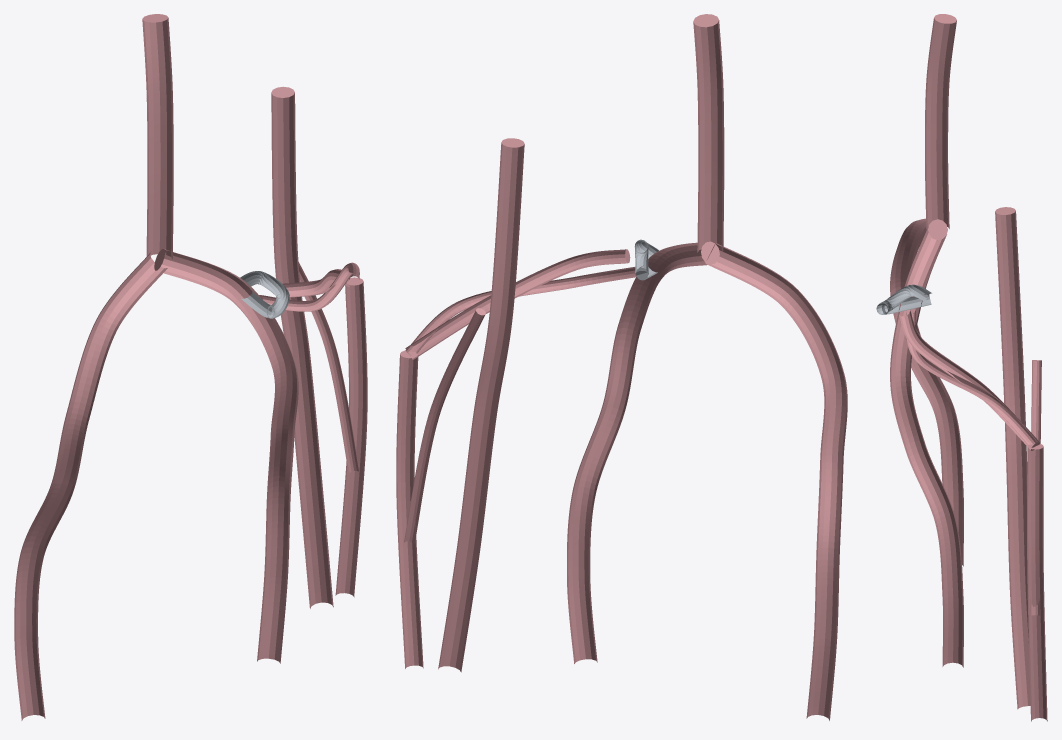
Rendered from craniocervical_pa2.glb.
3 renders of one model, left to right at view 1: azimuth 30°, elevation 25°; view 2: azimuth 150°, elevation 25°; view 3: azimuth 270°, elevation 25°, orthographic. The views are drawn at different scales.
Visible parts, largest first — view 1: Vertebral esquerda (V1–V4 esquemático), ACI cervical — referência, Vertebral direita (V1–V4 esquemático), Basilar, Carótida externa — referência, Faríngea ascendente, Forame transversário C1 — guia, Artéria occipital, Proatlântica tipo II persistente; view 2: ACI cervical — referência, Vertebral esquerda (V1–V4 esquemático), Vertebral direita (V1–V4 esquemático), Basilar, Carótida externa — referência, Proatlântica tipo II persistente, Faríngea ascendente, Artéria occipital; view 3: ACI cervical — referência, Vertebral direita (V1–V4 esquemático), Vertebral esquerda (V1–V4 esquemático), Basilar, Carótida externa — referência, Proatlântica tipo II persistente, Artéria occipital, Forame transversário C1 — guia, Faríngea ascendente.
Part boxes in pixels (x1=…): Vertebral esquerda (V1–V4 esquemático): x1=14, y1=252, x2=167, y2=720; ACI cervical — referência: x1=271, y1=86, x2=333, y2=608; Vertebral direita (V1–V4 esquemático): x1=154, y1=249, x2=298, y2=663; Basilar: x1=142, y1=14, x2=173, y2=259; Carótida externa — referência: x1=335, y1=277, x2=367, y2=597; Faríngea ascendente: x1=298, y1=261, x2=359, y2=473; Forame transversário C1 — guia: x1=240, y1=271, x2=289, y2=318; Artéria occipital: x1=259, y1=262, x2=359, y2=311; Proatlântica tipo II persistente: x1=282, y1=269, x2=354, y2=297; ACI cervical — referência: x1=438, y1=138, x2=524, y2=672; Vertebral esquerda (V1–V4 esquemático): x1=705, y1=243, x2=847, y2=720; Vertebral direita (V1–V4 esquemático): x1=567, y1=241, x2=719, y2=663; Basilar: x1=693, y1=14, x2=724, y2=252; Carótida externa — referência: x1=396, y1=350, x2=423, y2=668; Proatlântica tipo II persistente: x1=405, y1=249, x2=630, y2=359; Faríngea ascendente: x1=404, y1=308, x2=485, y2=544; Artéria occipital: x1=405, y1=267, x2=636, y2=355; ACI cervical — referência: x1=995, y1=207, x2=1030, y2=709; Vertebral direita (V1–V4 esquemático): x1=890, y1=228, x2=963, y2=667; Vertebral esquerda (V1–V4 esquemático): x1=890, y1=218, x2=963, y2=566; Basilar: x1=925, y1=14, x2=956, y2=229; Carótida externa — referência: x1=1027, y1=444, x2=1047, y2=721; Proatlântica tipo II persistente: x1=899, y1=311, x2=1040, y2=450; Artéria occipital: x1=906, y1=310, x2=1038, y2=447; Forame transversário C1 — guia: x1=876, y1=284, x2=931, y2=314; Faríngea ascendente: x1=1030, y1=360, x2=1041, y2=615.
Bounding box in the file's own units: 5.41 × 8.84 × 2.28.
